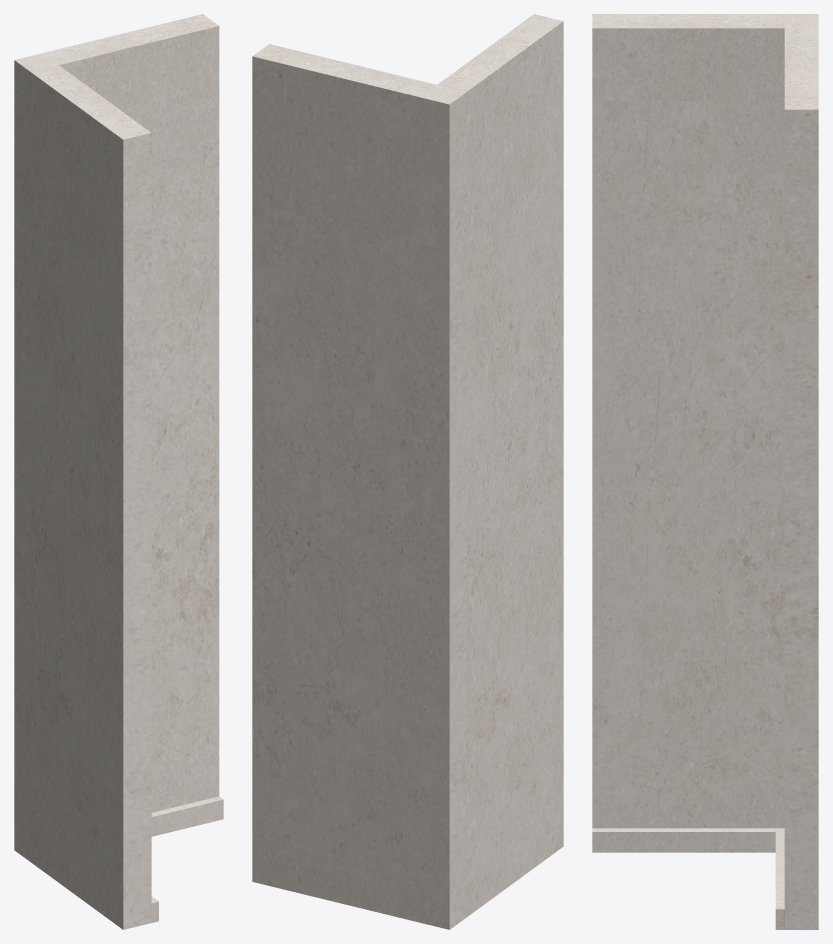
The model's file is Atelier_modular_wall_corner.fbx.
3 views of the same model, side by side, from view 1: azimuth 30°, elevation 25°; view 2: azimuth 150°, elevation 25°; view 3: azimuth 270°, elevation 25° (orthographic). The views are drawn at different scales.
Parts seen in each view (by area): view 1: Atelier_modular_wall_corner; view 2: Atelier_modular_wall_corner; view 3: Atelier_modular_wall_corner.
Part boxes in pixels (bbox=[...]): Atelier_modular_wall_corner: bbox=[14, 14, 223, 929]; Atelier_modular_wall_corner: bbox=[252, 14, 563, 929]; Atelier_modular_wall_corner: bbox=[592, 14, 818, 929].
Bounding box in the file's own units: 100 × 400 × 100.
1 material, 1 textured.
